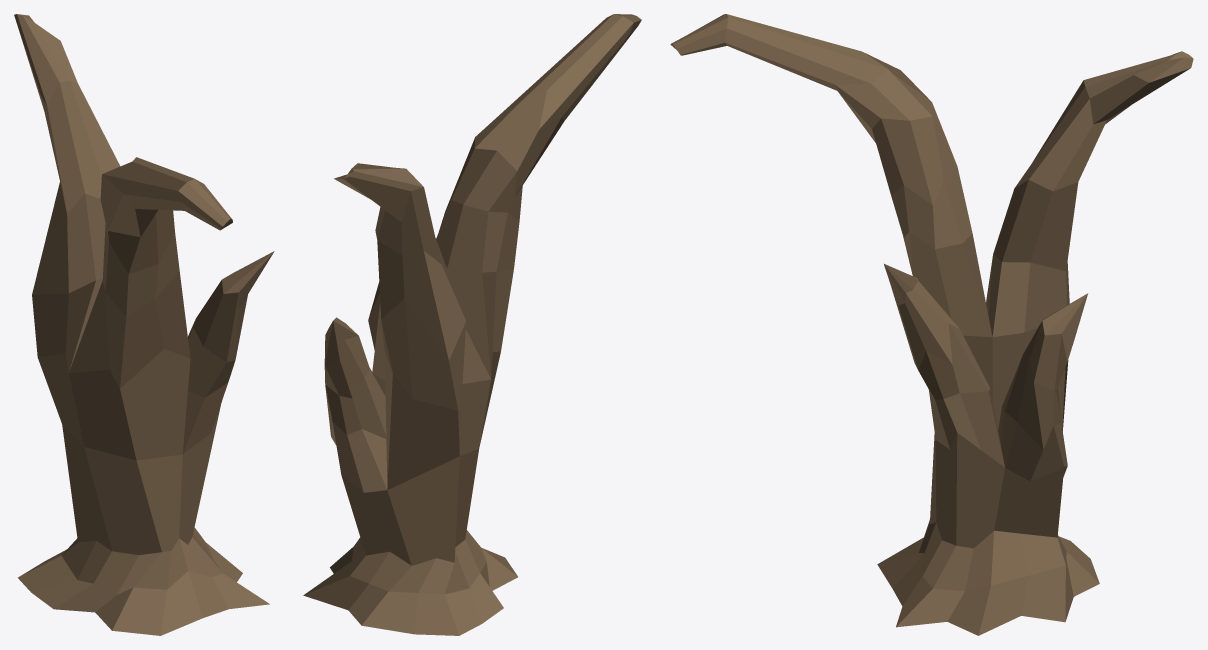
File: Tree3.fbx
3 renders of one model, left to right at view 1: azimuth 30°, elevation 25°; view 2: azimuth 150°, elevation 25°; view 3: azimuth 270°, elevation 25°, orthographic. The views are drawn at different scales.
Visible parts, largest first — view 1: Cube; view 2: Cube; view 3: Cube.
Boxes of the visible parts, x1=… form: Cube: x1=14, y1=14, x2=274, y2=635; Cube: x1=303, y1=14, x2=641, y2=635; Cube: x1=670, y1=14, x2=1193, y2=635.
Bounding box in the file's own units: 206 × 545 × 484.
